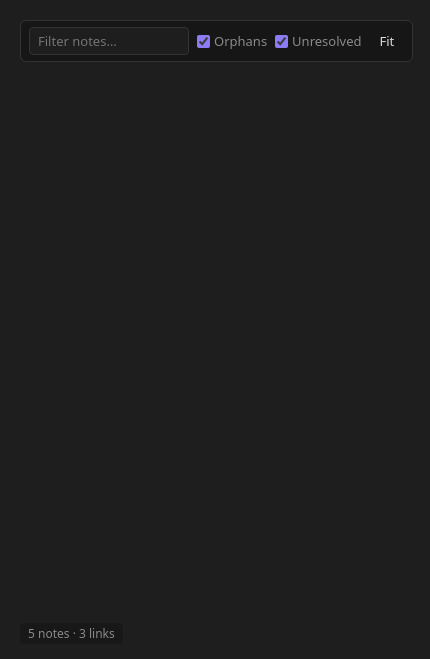
Test case: GraphView › toggles orphans and unresolved nodes
The image size is (430, 659).
Expected: the text with test id "graph-status" reads "5 notes · 3 links", [28,625,115,642]
Click the checkbox labelled "Orphans". click: (204, 41)
box: [197,34,210,48]
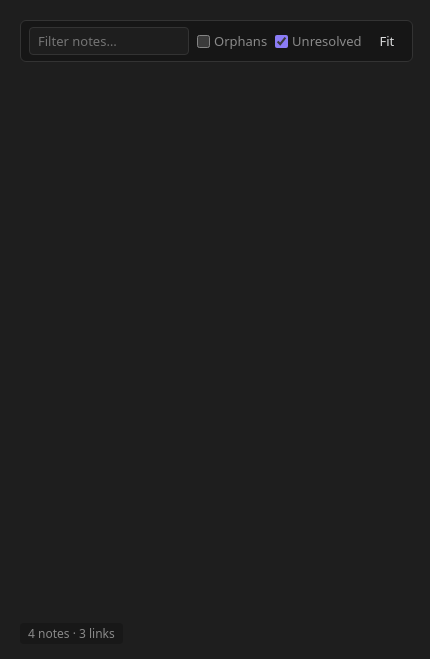
Result: the text with test id "graph-status" reads "4 notes · 3 links" at [28,625,115,642]
Click the checkbox labelled "Unresolved". click: (282, 41)
box: [275,34,288,48]
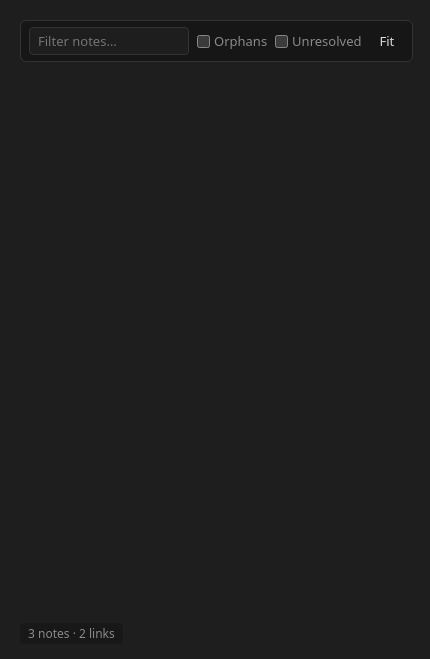
Result: the text with test id "graph-status" reads "3 notes · 2 links" at [28,625,115,642]
